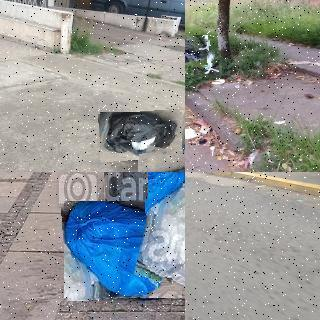Garbage: (63, 199, 184, 300), (141, 172, 185, 287), (99, 111, 183, 161), (185, 33, 209, 66), (194, 51, 223, 75)
